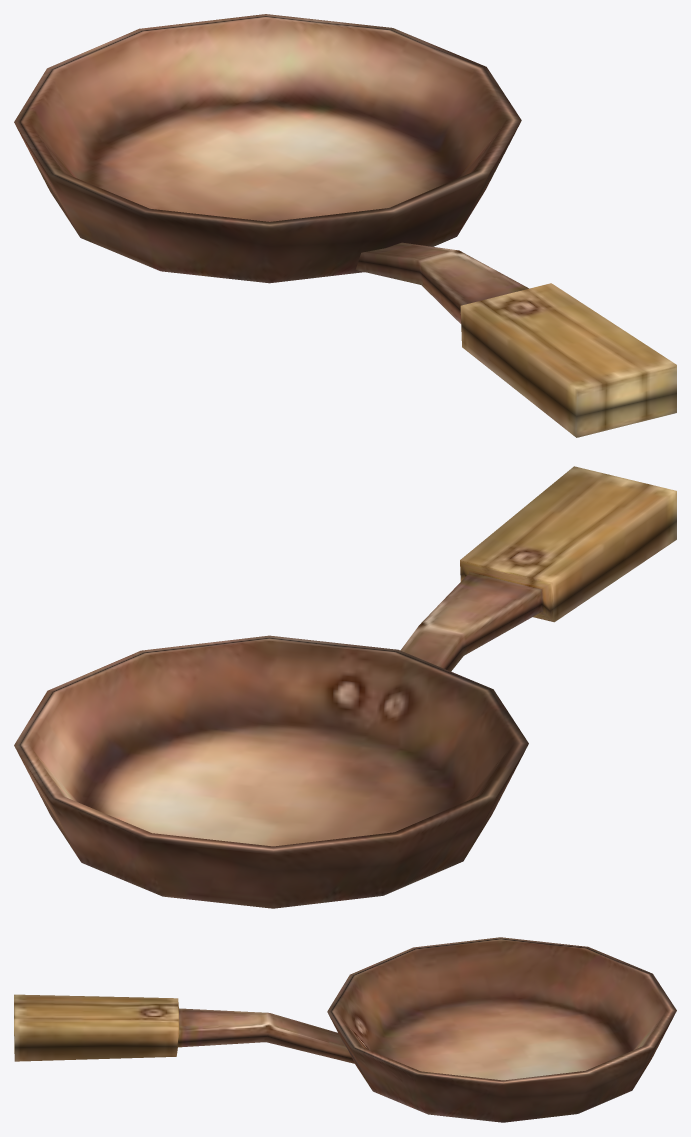
The model's file is SM_frying pan_00.gltf.
3 renders of one model, top to bottom at view 1: azimuth 30°, elevation 25°; view 2: azimuth 150°, elevation 25°; view 3: azimuth 270°, elevation 25°, orthographic. The views are drawn at different scales.
Parts seen in each view (by area): view 1: SM_frying pan_00; view 2: SM_frying pan_00; view 3: SM_frying pan_00.
Boxes of the visible parts, <box> form: SM_frying pan_00: <box>14,14,676,437</box>; SM_frying pan_00: <box>14,466,676,908</box>; SM_frying pan_00: <box>14,937,676,1122</box>.
Bounding box in the file's own units: 0.3654 × 0.0571 × 0.6924.
1 material, 1 textured.
